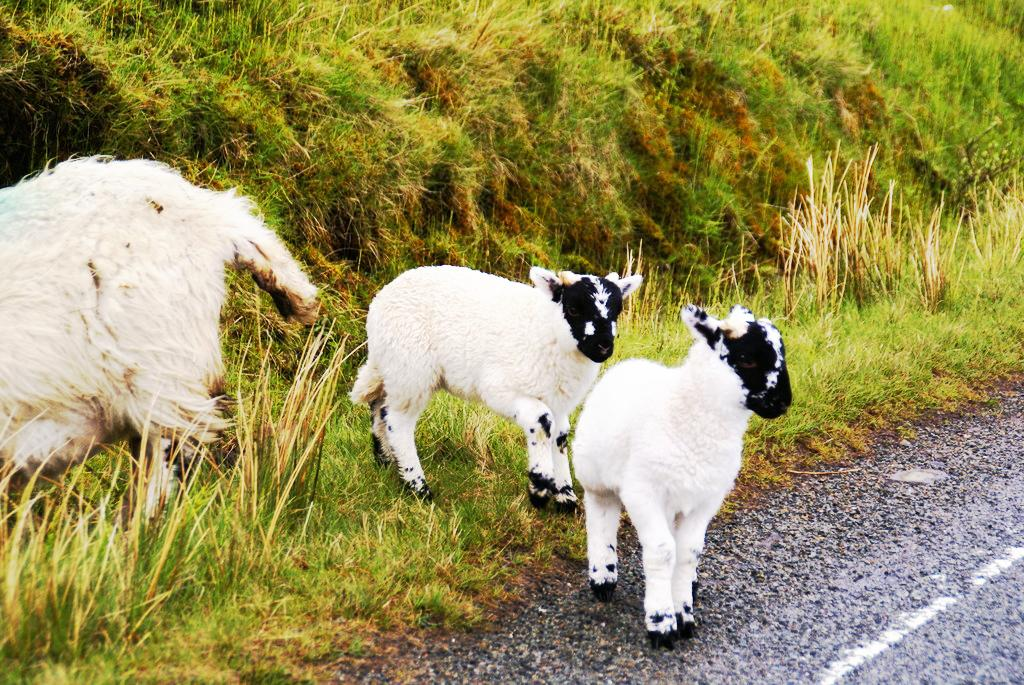Sheep: (0, 151, 318, 517), (570, 302, 792, 652), (351, 264, 641, 512)
